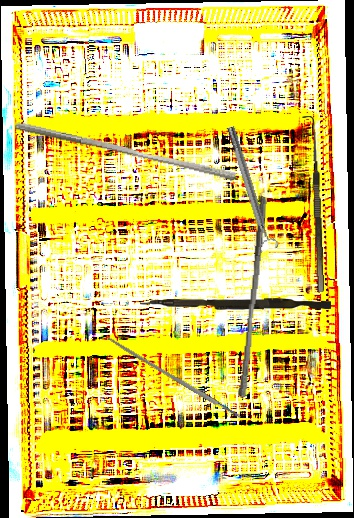Fixation Ring: (221, 123, 280, 254)
Hook Surgical: (301, 115, 325, 293)
Pusher: (11, 121, 239, 182), (238, 195, 267, 398), (139, 296, 332, 313)
Scalpel Handle: (105, 335, 243, 421)
